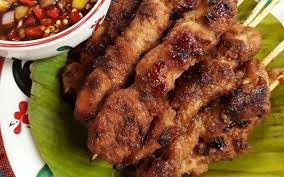sate: (8, 1, 284, 170)
